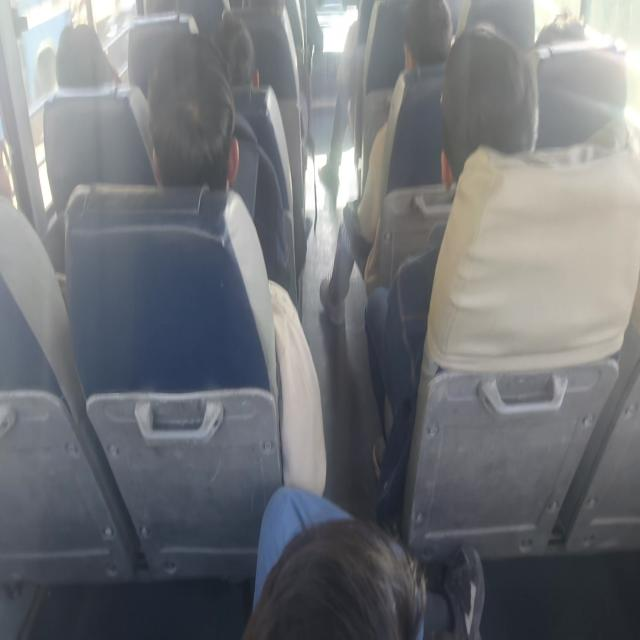person: (246, 488, 446, 640), (438, 37, 528, 224), (152, 45, 233, 208), (199, 15, 265, 104), (389, 0, 458, 83), (50, 36, 119, 99), (535, 0, 599, 49), (0, 120, 32, 210)
